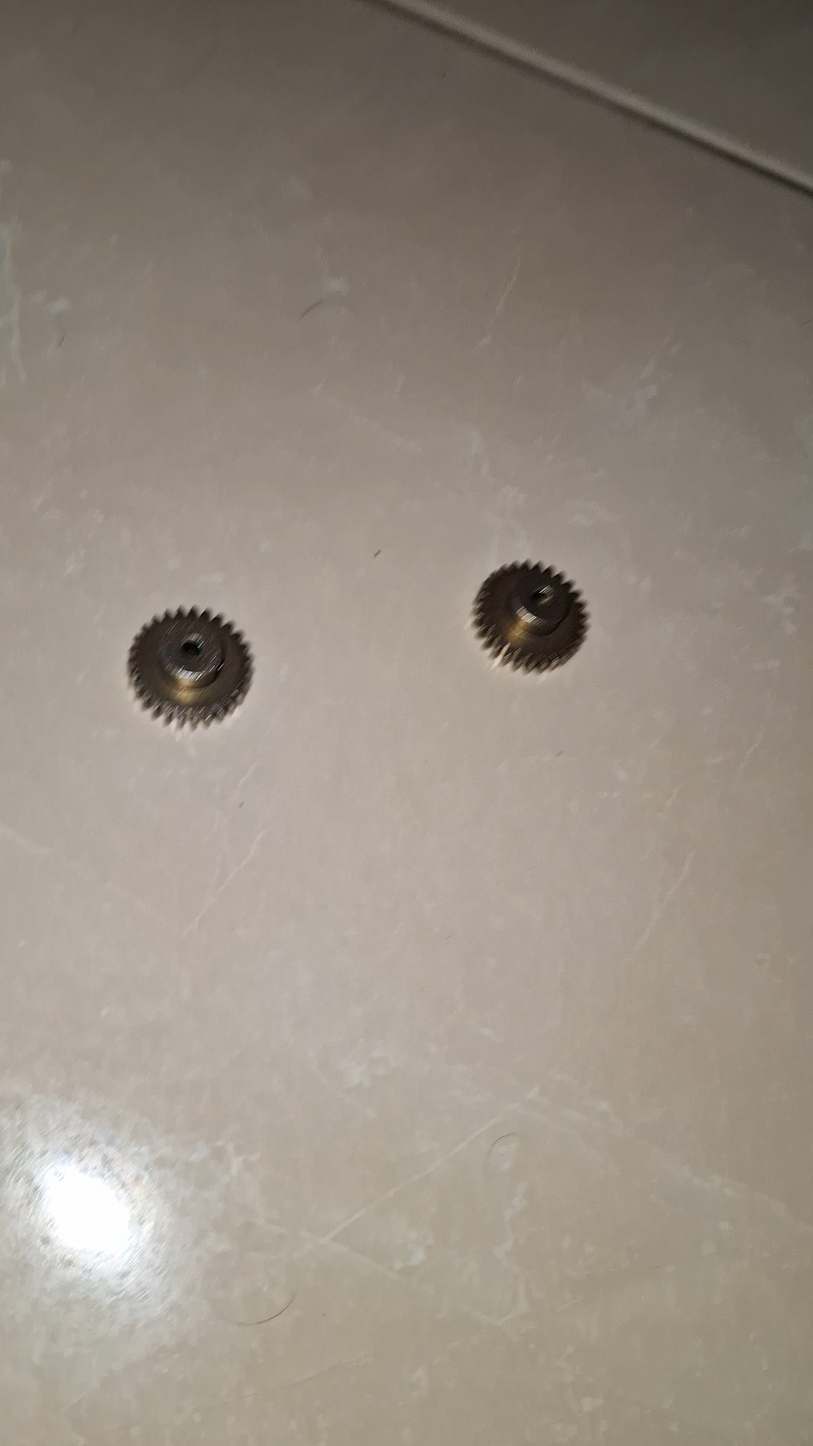spur gear: (128, 609, 252, 726), (472, 561, 587, 671)
